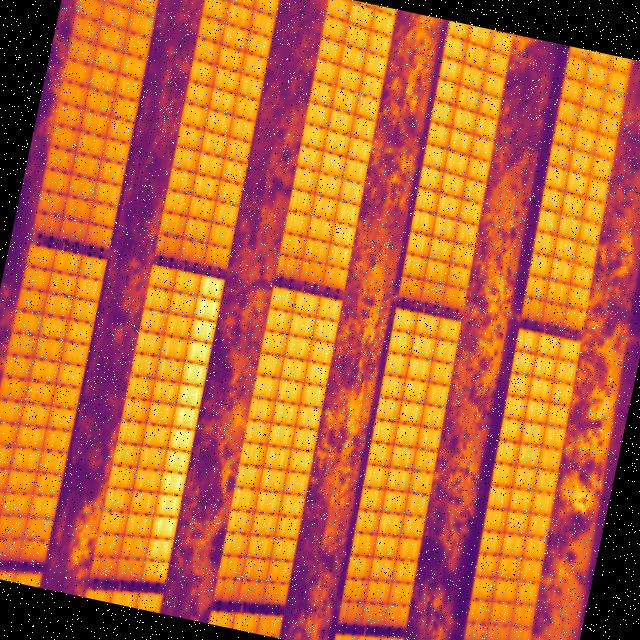Hotspot: (136, 270, 232, 588)
